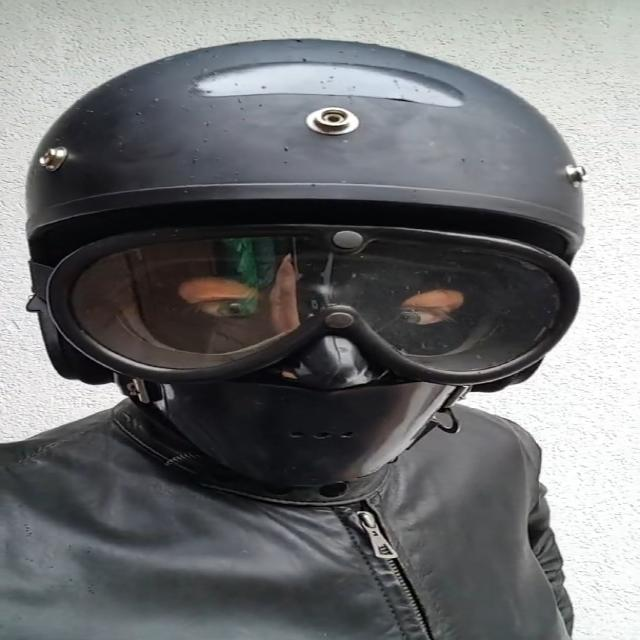Helmet_Wearer: (19, 28, 595, 510)
Jacket_Wearer: (5, 372, 640, 640)
Person: (0, 40, 596, 640)
